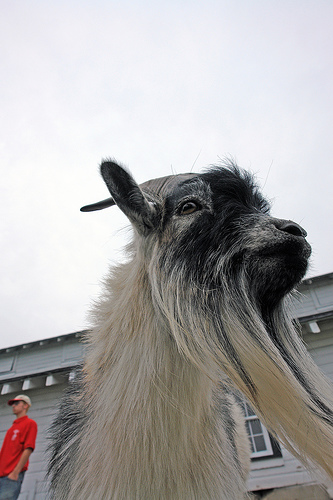goat: (49, 156, 332, 500)
